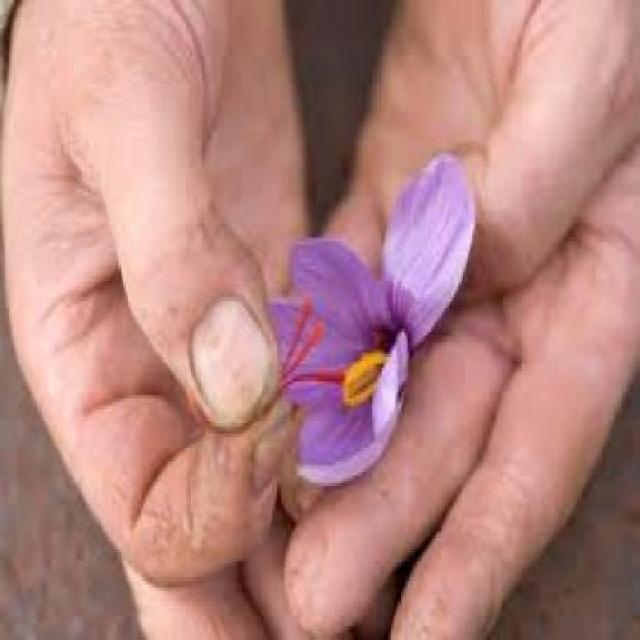Flower: (255, 153, 480, 485)
stigma: (279, 362, 344, 395), (288, 292, 314, 352)
